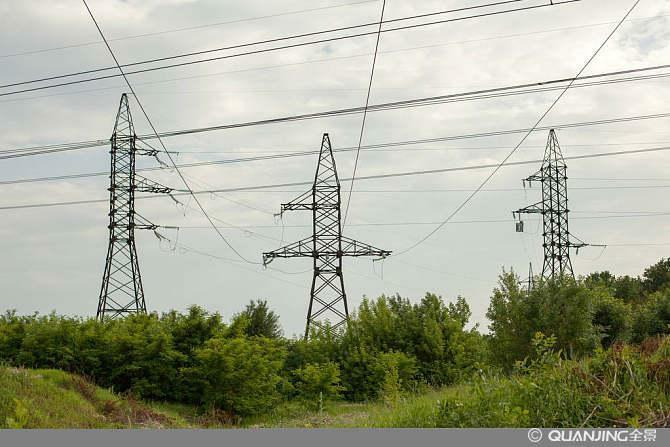power_tower: (262, 122, 393, 349), (91, 89, 188, 323), (513, 128, 589, 281)
